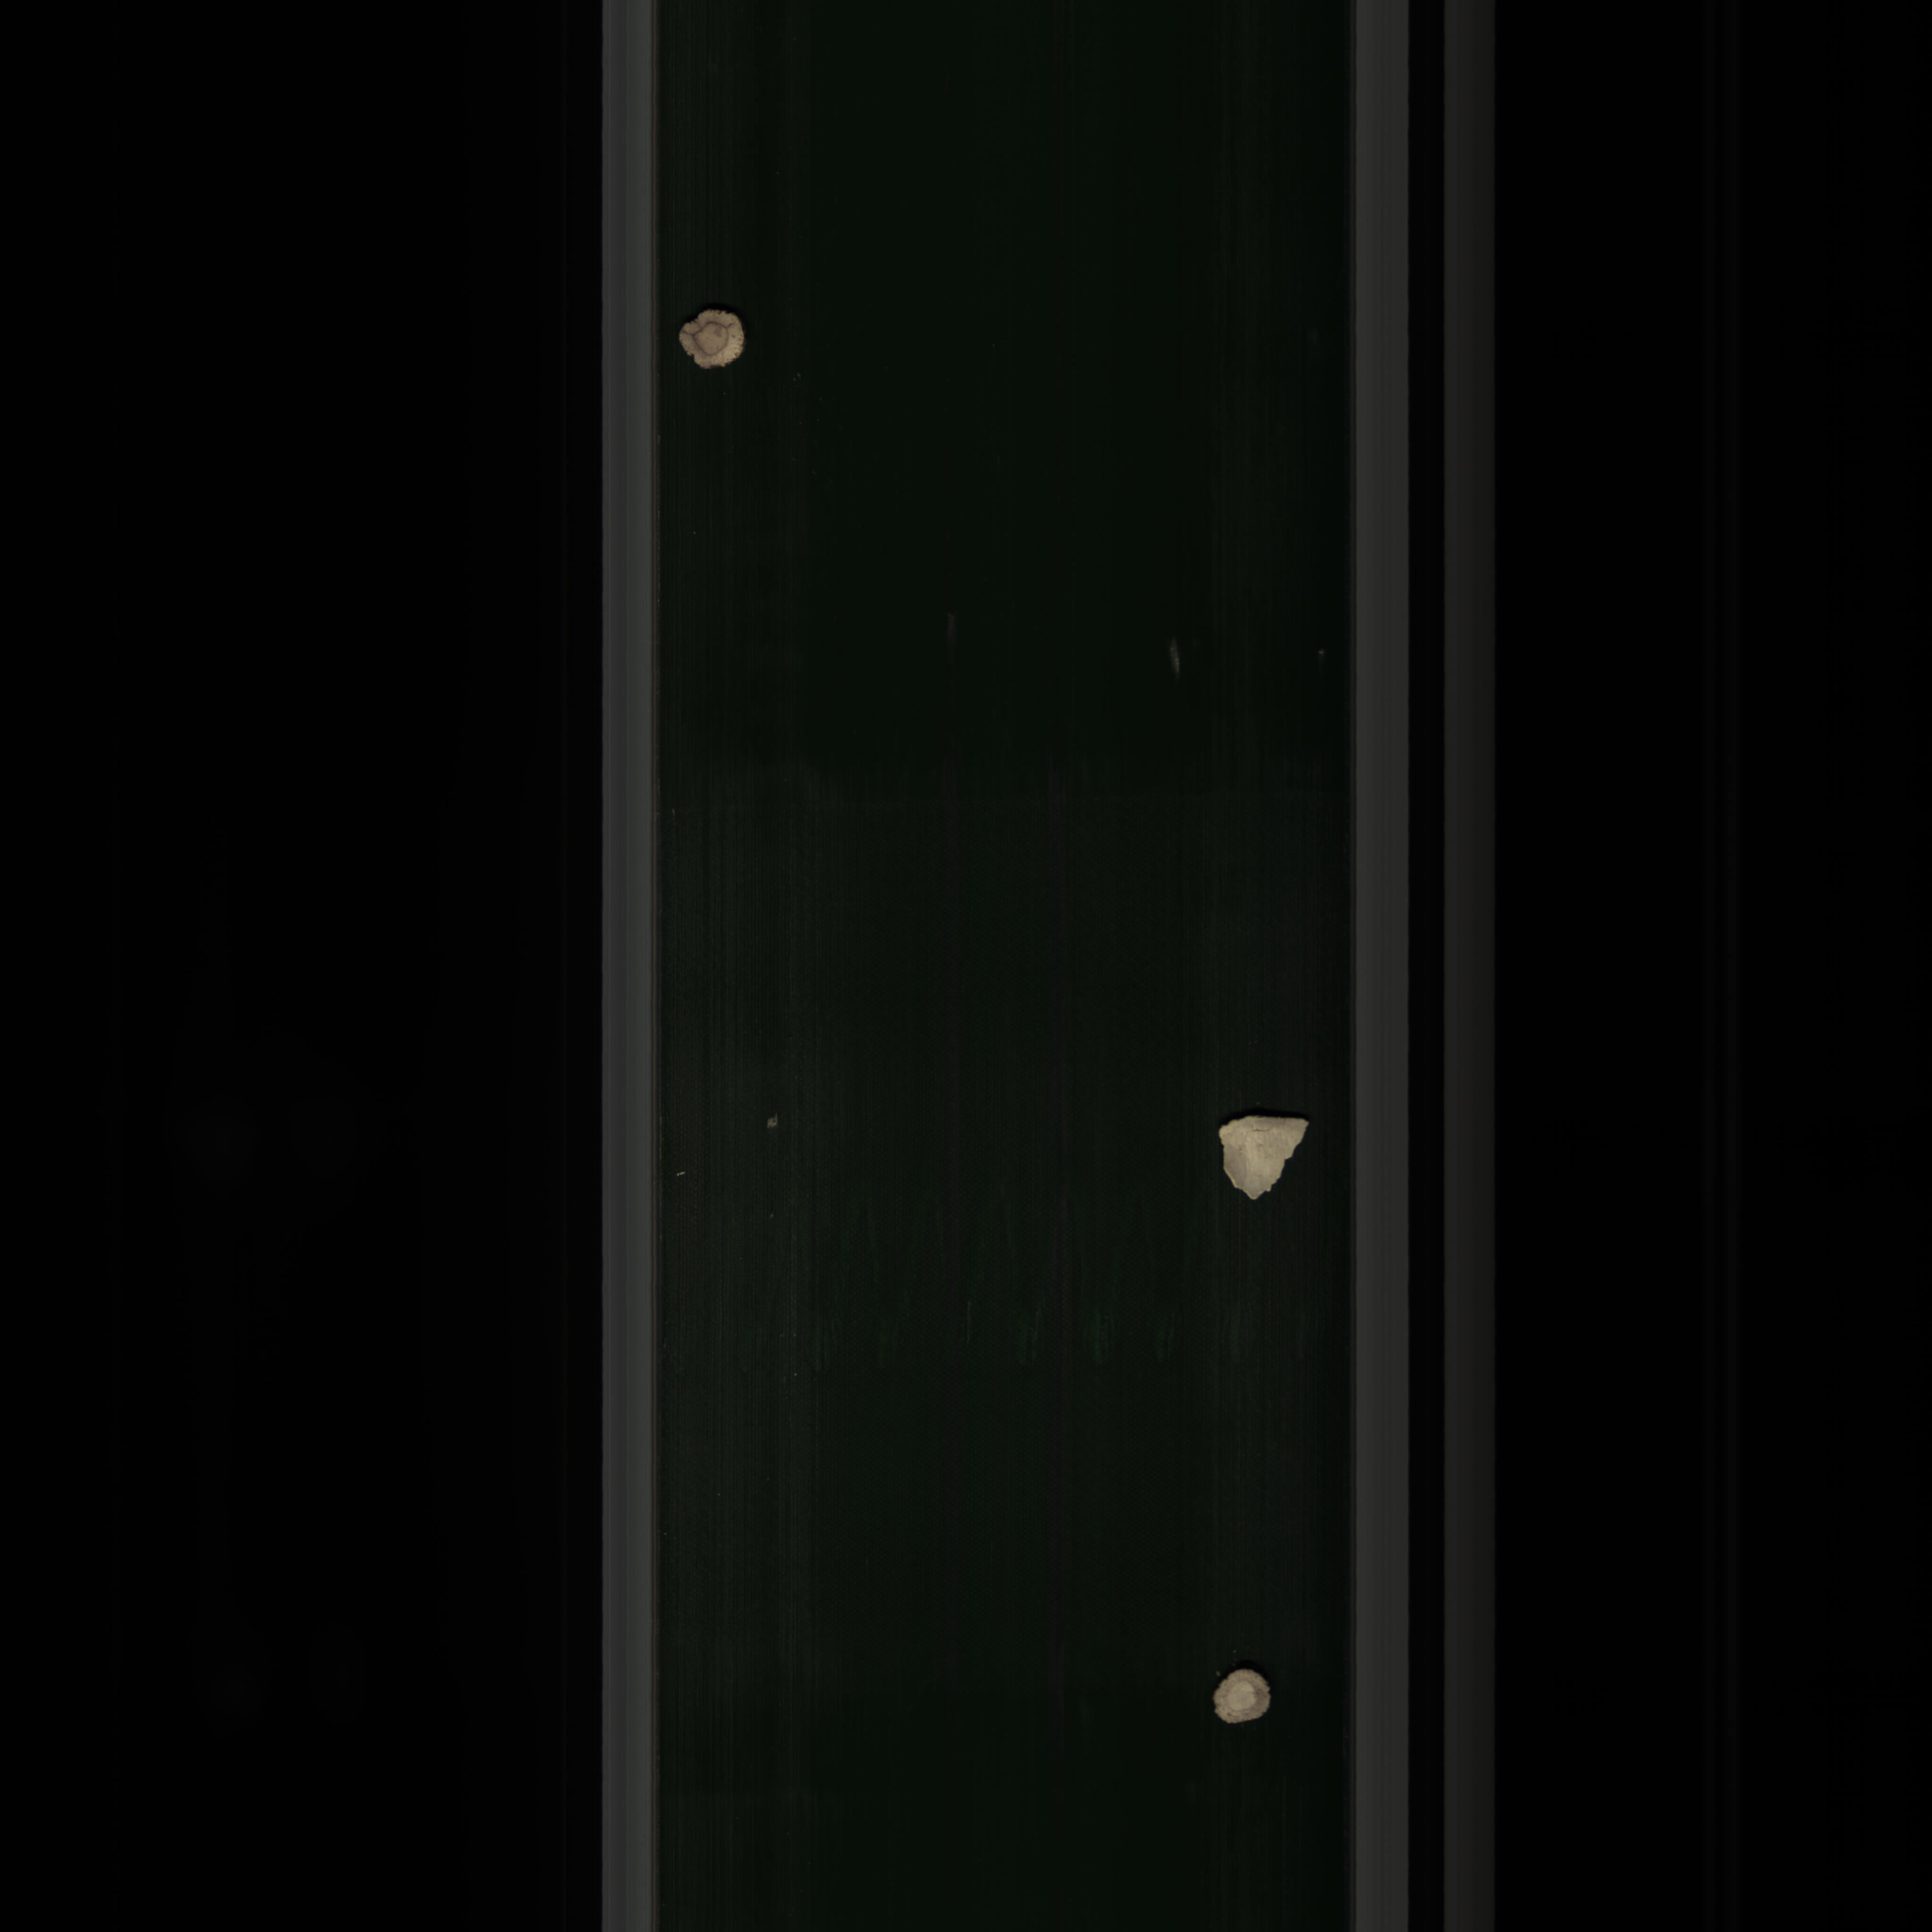debris: (1208, 1111, 1320, 1207)
moldy: (672, 299, 766, 375)
